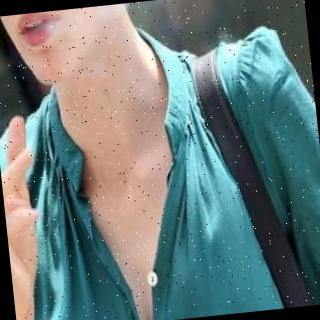smoke: (100, 0, 234, 31)
